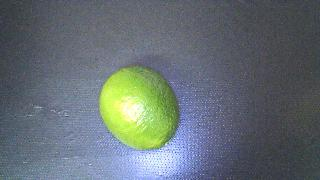EXPORTACION: (99, 66, 179, 150)
